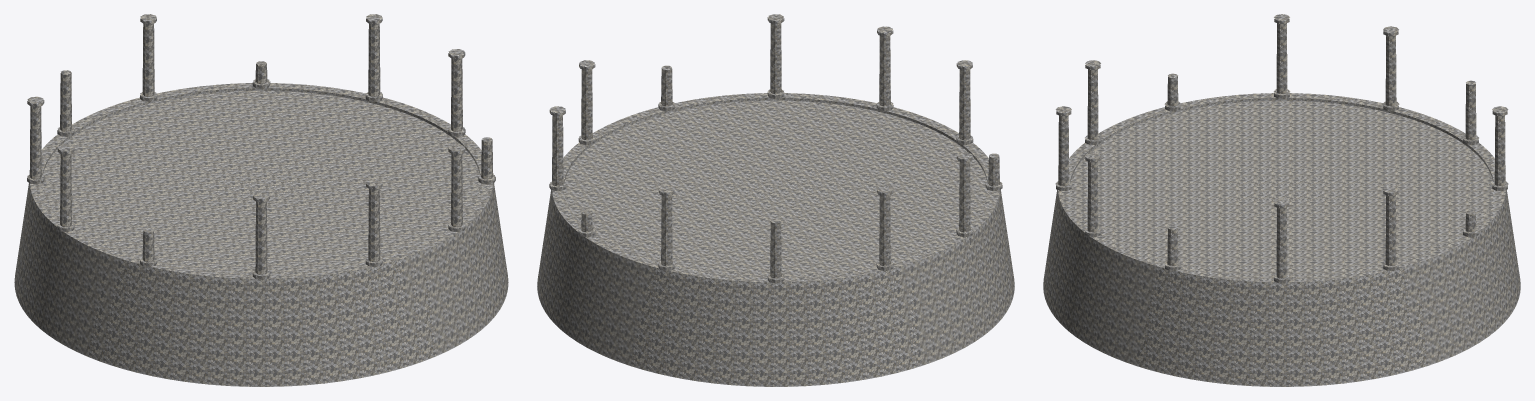
The model's file is BossArena.gltf.
3 renders of one model, left to right at view 1: azimuth 30°, elevation 25°; view 2: azimuth 150°, elevation 25°; view 3: azimuth 270°, elevation 25°, orthographic. The views are drawn at different scales.
Visible parts, largest first — view 1: BossArena; view 2: BossArena; view 3: BossArena.
Boxes of the visible parts, <box> form: BossArena: <box>14,14,508,386</box>; BossArena: <box>537,14,1014,386</box>; BossArena: <box>1043,14,1520,386</box>.
Bounding box in the file's own units: 81 × 33 × 81.
1 material, 1 textured.
